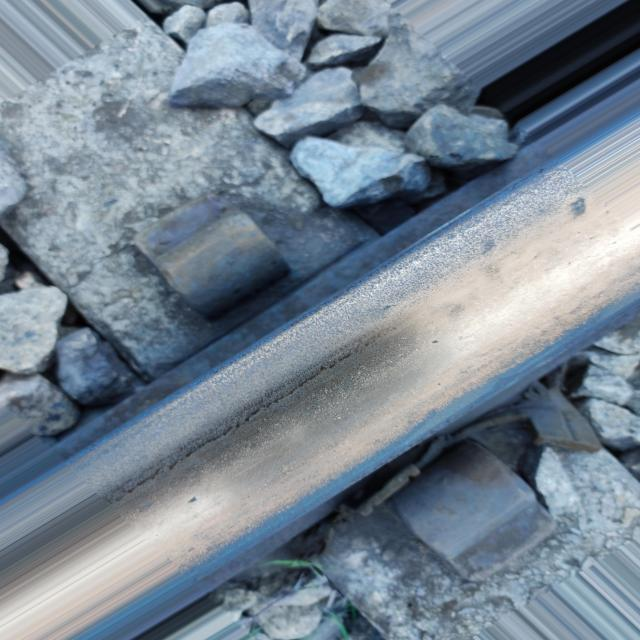Missing Fastener: (339, 425, 603, 605), (98, 183, 334, 341), (455, 416, 534, 424)
